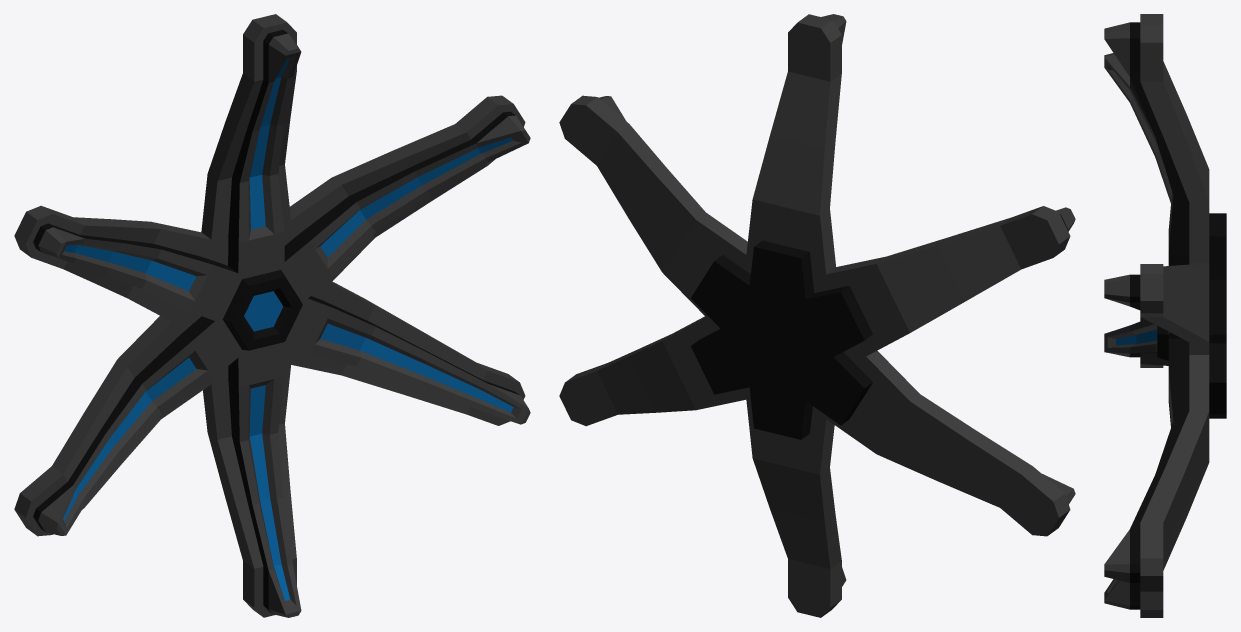
File: SM_AircraftLoaderClamp.FBX
The picture shows the model from 3 angles, left to right: view 1: azimuth 30°, elevation 25°; view 2: azimuth 150°, elevation 25°; view 3: azimuth 270°, elevation 25°; orthographic projection.
Visible parts, largest first — view 1: Cylinder002; view 2: Cylinder002; view 3: Cylinder002.
Part boxes in pixels (x1,y1,x2,y2): Cylinder002: [14, 14, 530, 617]; Cylinder002: [559, 14, 1075, 617]; Cylinder002: [1104, 14, 1226, 617].
Bounding box in the file's own units: 44.99 × 50.72 × 9.51.
